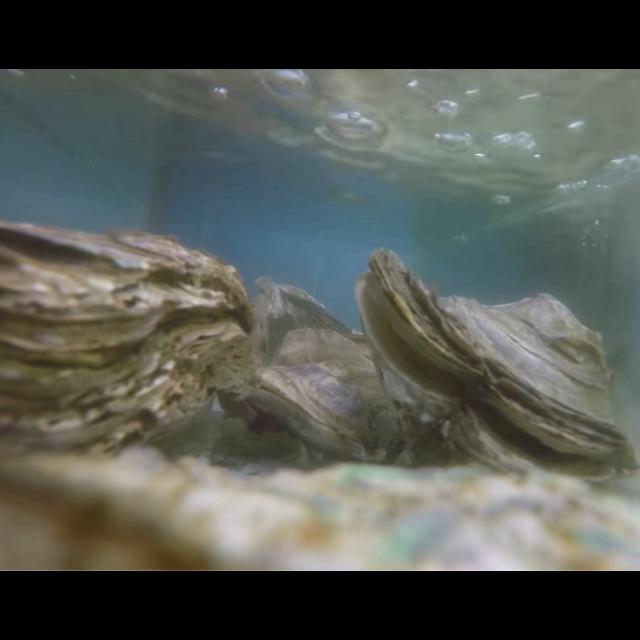Oyster-Closed: (0, 222, 252, 490), (255, 328, 421, 470)
Oyster-Indeterminate: (0, 447, 640, 571), (254, 274, 370, 364)
Oyster-Open: (354, 248, 640, 494)
